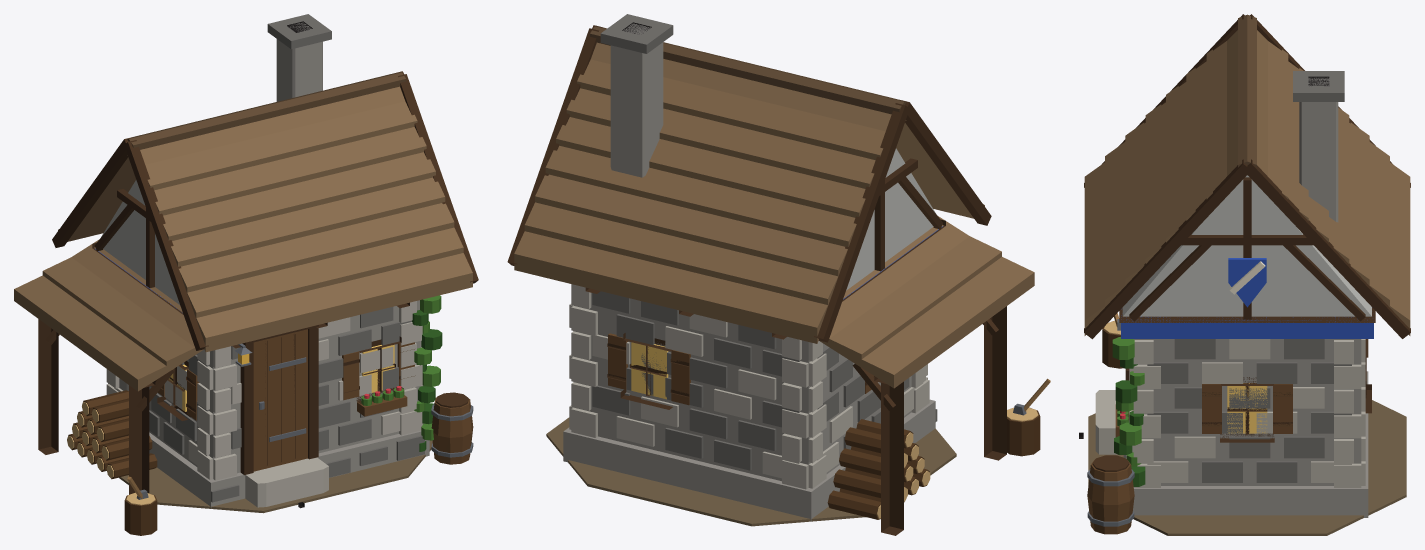
Rendered from house_4.obj.
3 renders of one model, left to right at view 1: azimuth 30°, elevation 25°; view 2: azimuth 150°, elevation 25°; view 3: azimuth 270°, elevation 25°, orthographic. The views are drawn at different scales.
Parts seen in each view (by area): view 1: Roof, Shed.Roof, Wall.Stone, Wall.Quoin, Door, Gable.Barge, Shed.Post, Roof.Ridge, Walls, Ground, Plinth, Firewood (+14 smaller); view 2: Roof, Wall.Stone, Shed.Roof, Walls, Wall.Quoin, Plinth, Gable.Barge, Ground, Shed.Post, Chimney, Firewood, Roof.Ridge (+8 smaller); view 3: Roof, Wall.Stone, Gable, Walls, Ground, Plinth, Gable.Barge, Wall.Quoin, Band, Chimney, Roof.Ridge, Ivy (+14 smaller).
Boxes of the visible parts, <box> form: Roof: <box>58,86,472,352</box>; Shed.Roof: <box>14,239,203,391</box>; Wall.Stone: <box>114,307,414,465</box>; Wall.Quoin: <box>106,301,423,480</box>; Door: <box>253,329,307,471</box>; Gable.Barge: <box>52,71,478,350</box>; Shed.Post: <box>38,319,149,494</box>; Roof.Ridge: <box>127,72,406,149</box>; Walls: <box>119,300,420,473</box>; Ground: <box>119,440,432,513</box>; Plinth: <box>149,430,429,508</box>; Firewood: <box>68,390,157,479</box>; Roof: <box>514,42,984,343</box>; Wall.Stone: <box>592,291,923,478</box>; Shed.Roof: <box>819,216,1034,388</box>; Walls: <box>574,293,911,481</box>; Wall.Quoin: <box>569,284,929,489</box>; Plinth: <box>563,399,935,521</box>; Gable.Barge: <box>507,25,991,342</box>; Ground: <box>546,417,956,526</box>; Shed.Post: <box>881,306,1006,535</box>; Chimney: <box>610,42,663,177</box>; Firewood: <box>827,419,929,519</box>; Roof.Ridge: <box>590,26,905,114</box>; Roof: <box>1084,30,1410,335</box>; Wall.Stone: <box>1133,339,1351,482</box>; Gable: <box>1122,175,1371,316</box>; Walls: <box>1134,339,1361,485</box>; Ground: <box>1088,400,1406,535</box>; Plinth: <box>1126,371,1368,517</box>; Gable.Barge: <box>1084,14,1410,339</box>; Wall.Quoin: <box>1129,339,1365,487</box>; Band: <box>1121,309,1373,338</box>; Chimney: <box>1299,102,1338,222</box>; Roof.Ridge: <box>1238,14,1256,175</box>; Ivy: <box>1112,337,1145,486</box>.
Size of the model in its own units: 4.82 by 5.02 by 3.65.
